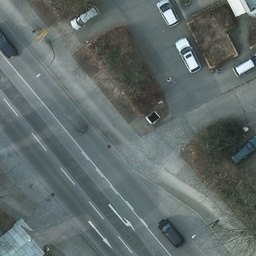car: (175, 39, 201, 74), (70, 5, 100, 29), (0, 26, 20, 60), (157, 0, 179, 29)
van: (158, 219, 185, 249)
